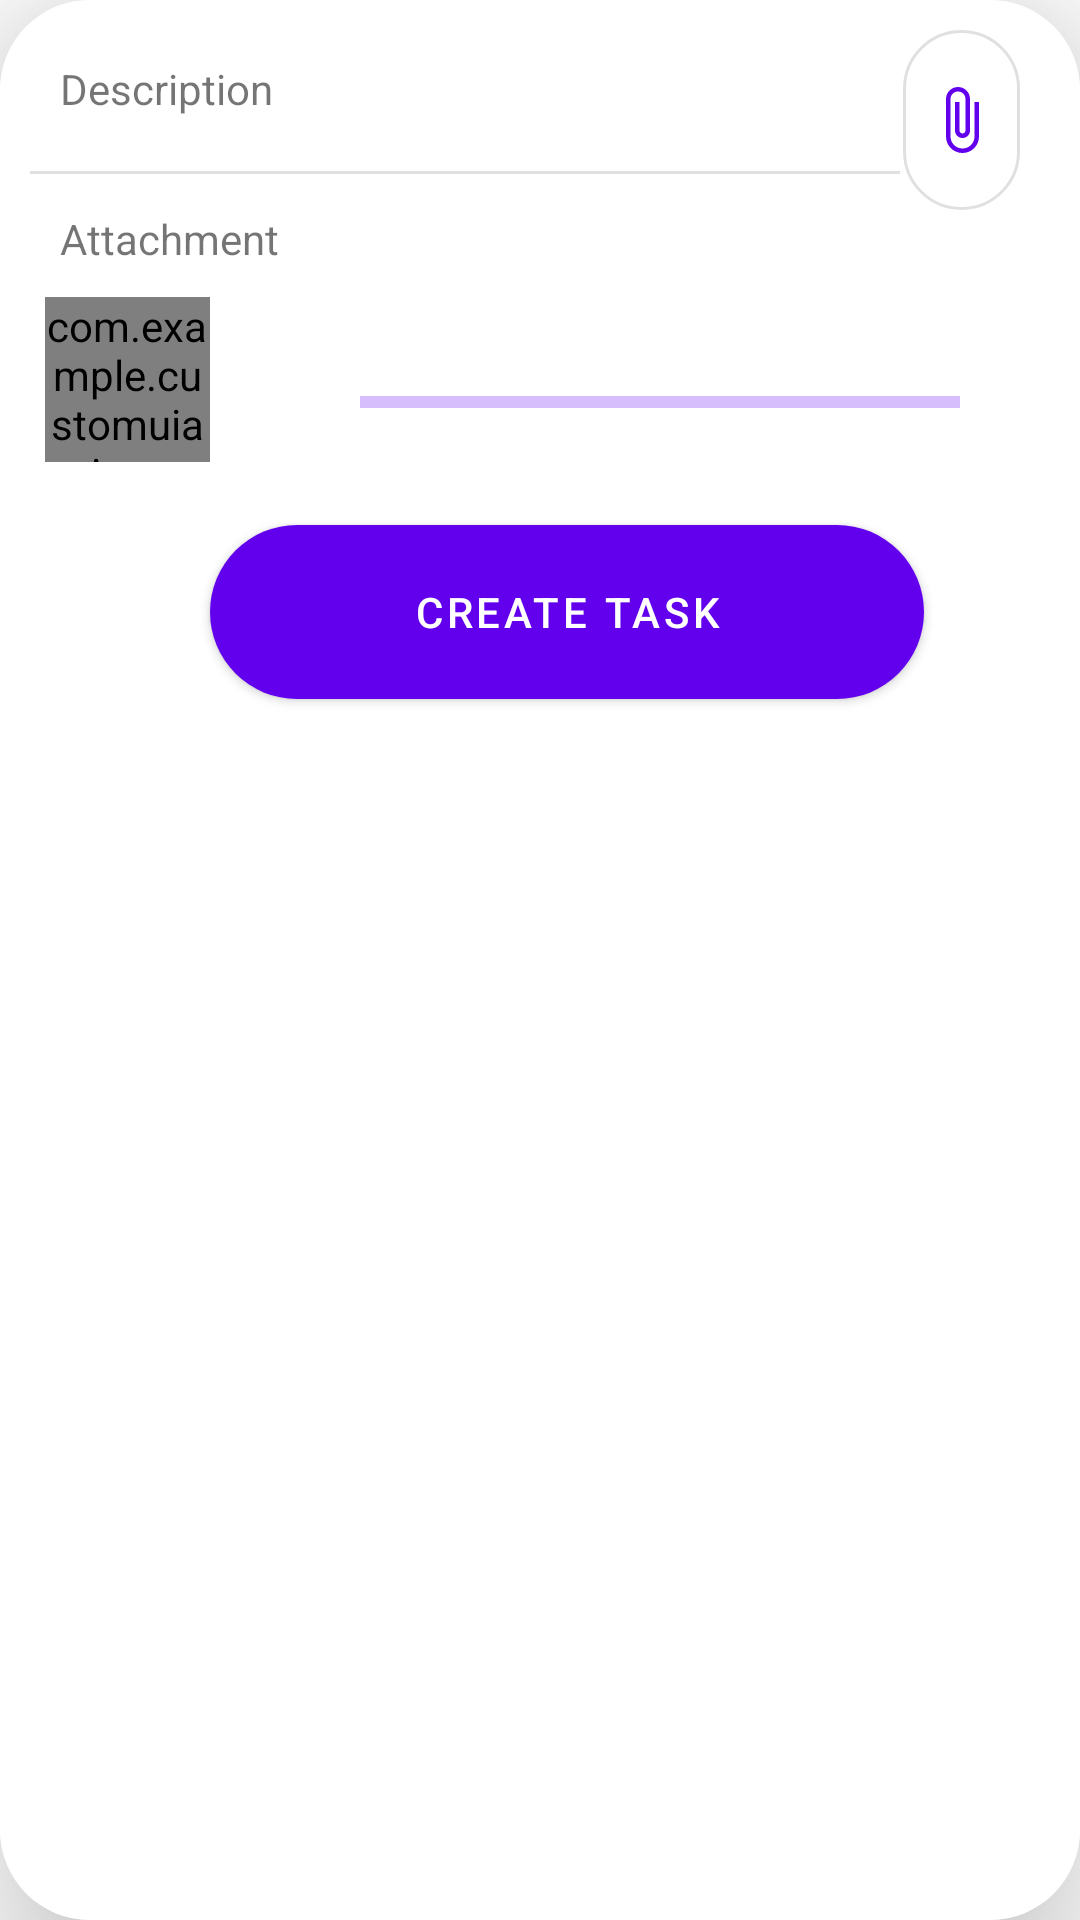

Locate icon controls on the screen. Image size 1080px x 1920px, boxes as (left=x1, top=y1, right=x2, bottom=y2).
attach file: (left=903, top=30, right=1020, bottom=210)
